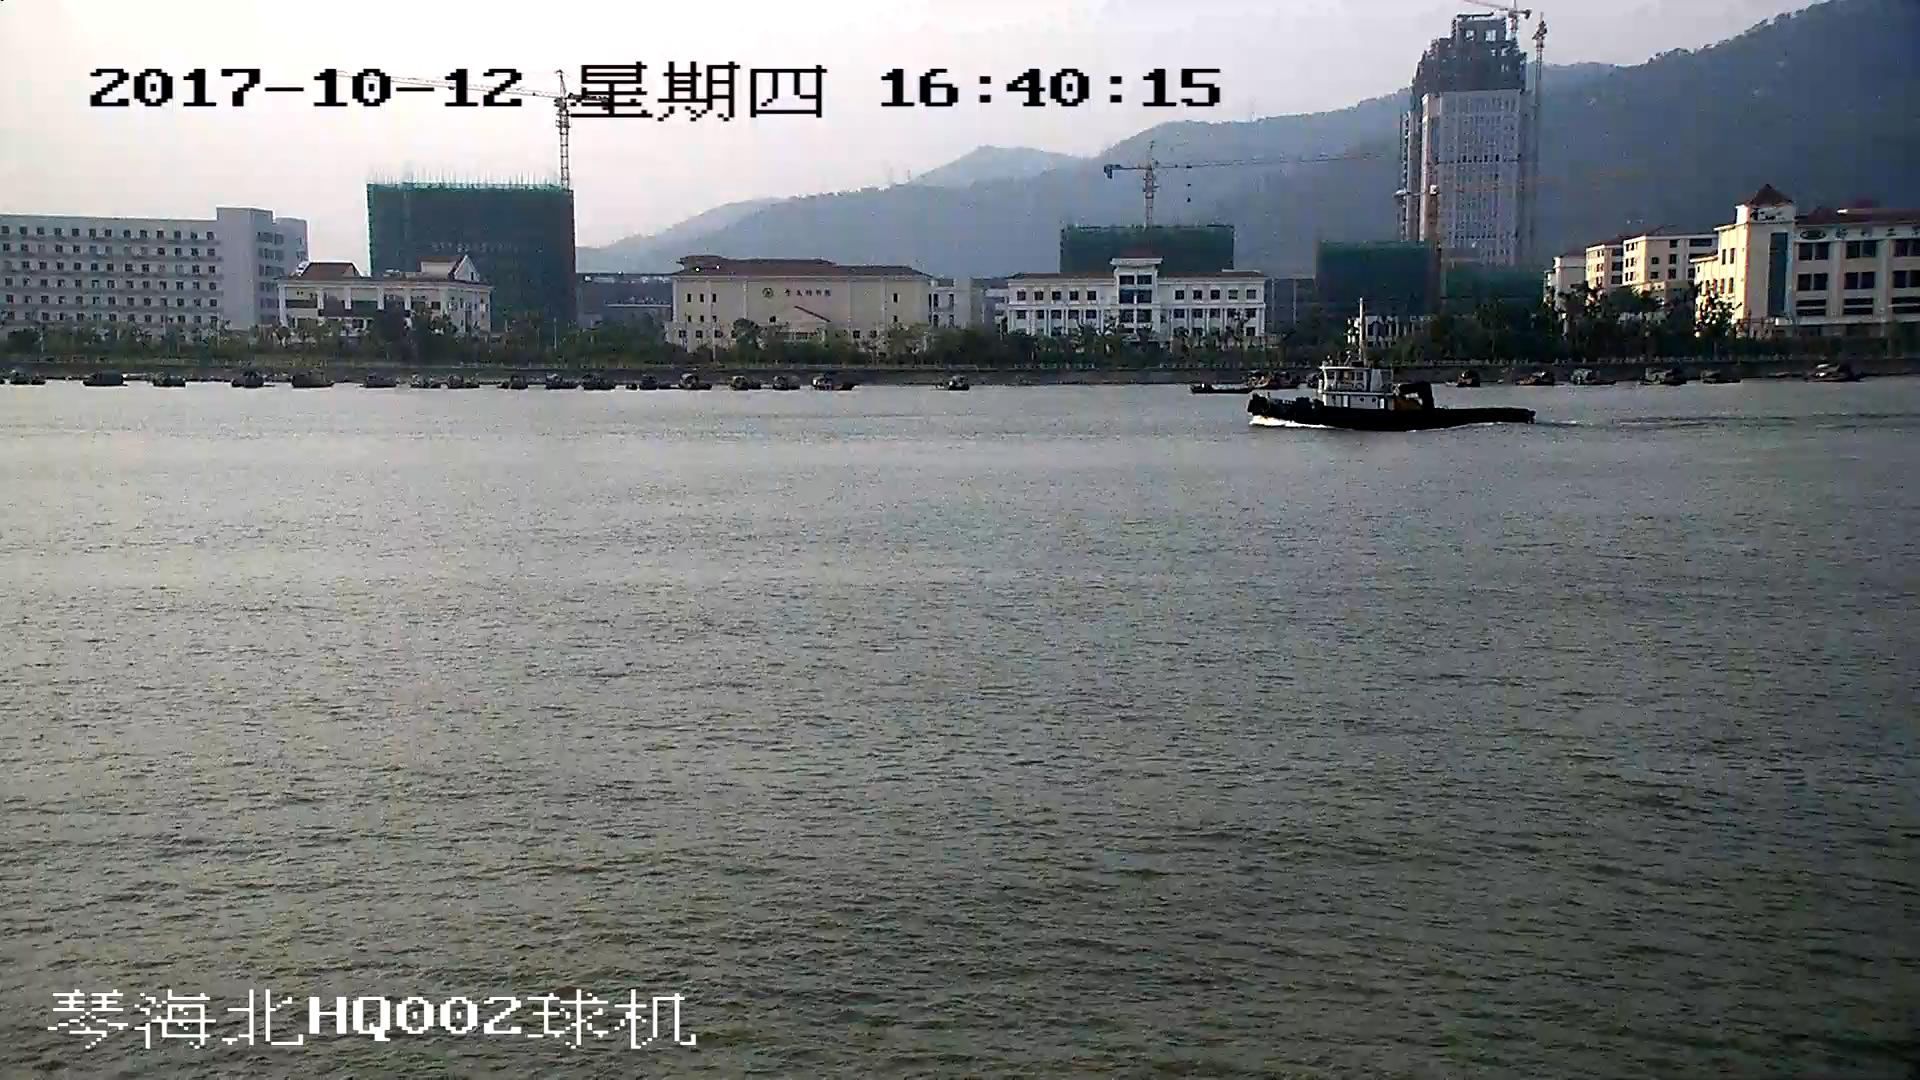passenger ship: (1248, 306, 1535, 432)
